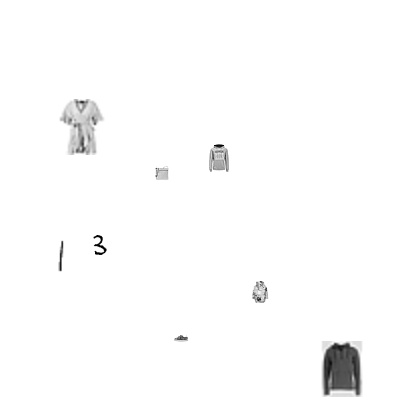1: (39, 235, 81, 277)
3: (86, 231, 114, 259)
Bag: (155, 166, 169, 180)
Dress: (54, 99, 110, 155)
Pullover: (314, 341, 370, 397), (205, 144, 233, 172), (249, 281, 271, 303)
Sneaker: (174, 331, 188, 345)
